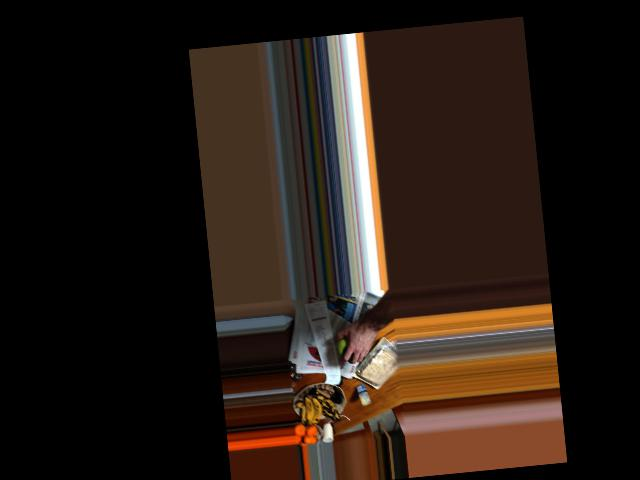apple: (336, 331, 363, 361)
